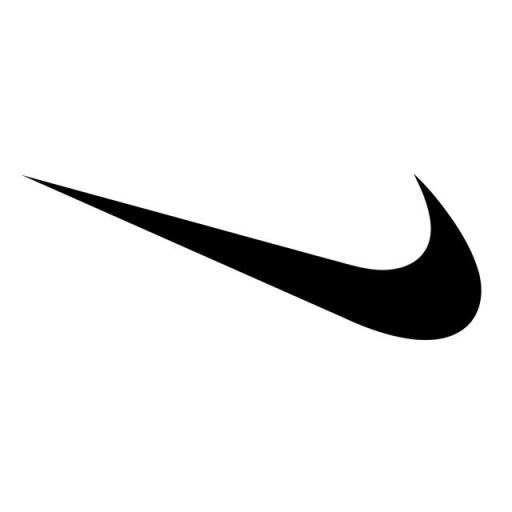Nike: (17, 170, 479, 347)
